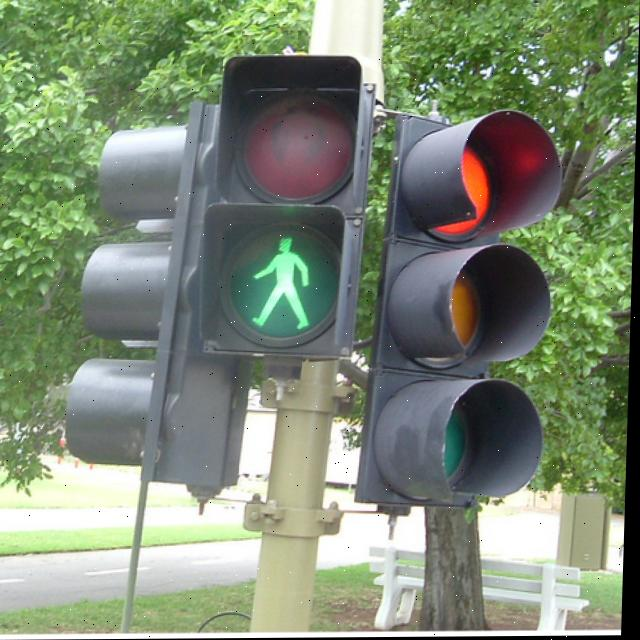light_traffic: (377, 69, 589, 570), (57, 95, 268, 518), (185, 34, 381, 376)
